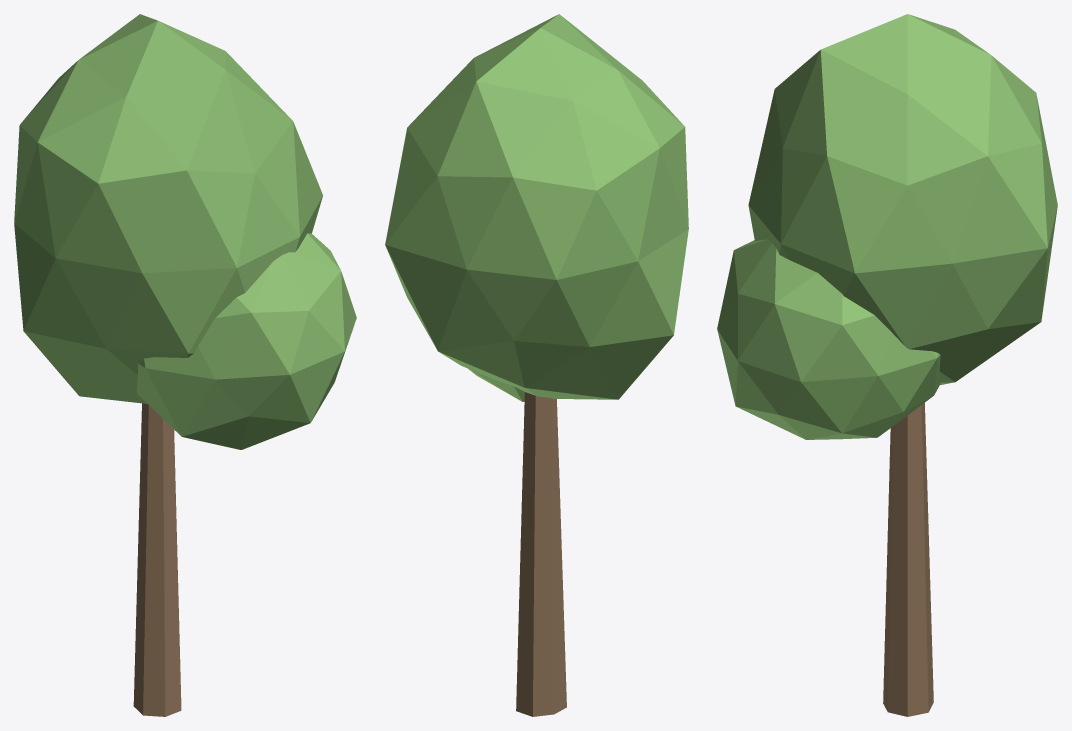
Rendered from Tree_Leaf_B.fbx.
The picture shows the model from 3 angles, left to right: view 1: azimuth 30°, elevation 25°; view 2: azimuth 150°, elevation 25°; view 3: azimuth 270°, elevation 25°; orthographic projection.
Visible parts, largest first — view 1: Tree_Leaf_B; view 2: Tree_Leaf_B; view 3: Tree_Leaf_B.
Boxes of the visible parts, box(x1,y1,x2,y2) form: Tree_Leaf_B: box(14, 14, 356, 716); Tree_Leaf_B: box(385, 14, 688, 716); Tree_Leaf_B: box(717, 14, 1057, 716).
Size of the model in its own units: 4.5 by 10.5 by 4.69.
